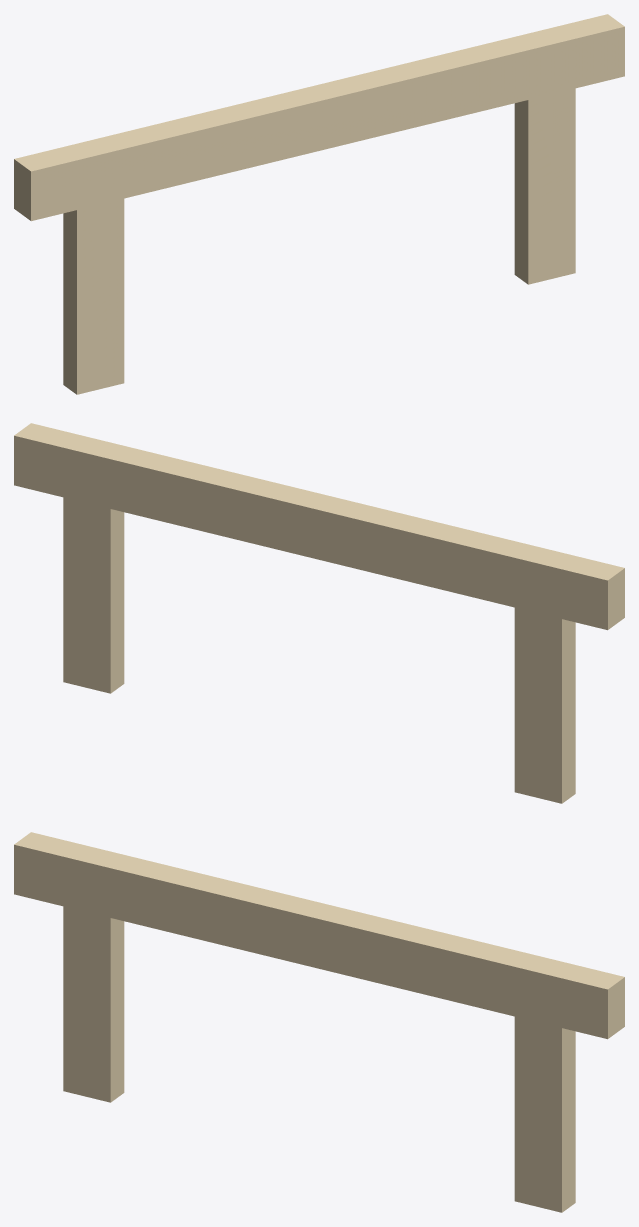
The model's file is overlay_bridge_rail.glb.
3 views of the same model, one above another, from view 1: azimuth 30°, elevation 25°; view 2: azimuth 150°, elevation 25°; view 3: azimuth 330°, elevation 25° (orthographic).
Parts seen in each view (by area): view 1: overlay_bridge_rail; view 2: overlay_bridge_rail; view 3: overlay_bridge_rail.
Part boxes in pixels (left/top/right/bottom): overlay_bridge_rail: left=14, top=14, right=624, bottom=394; overlay_bridge_rail: left=14, top=423, right=624, bottom=803; overlay_bridge_rail: left=14, top=832, right=624, bottom=1212.
Size of the model in its own units: 1 by 0.38 by 0.05.
